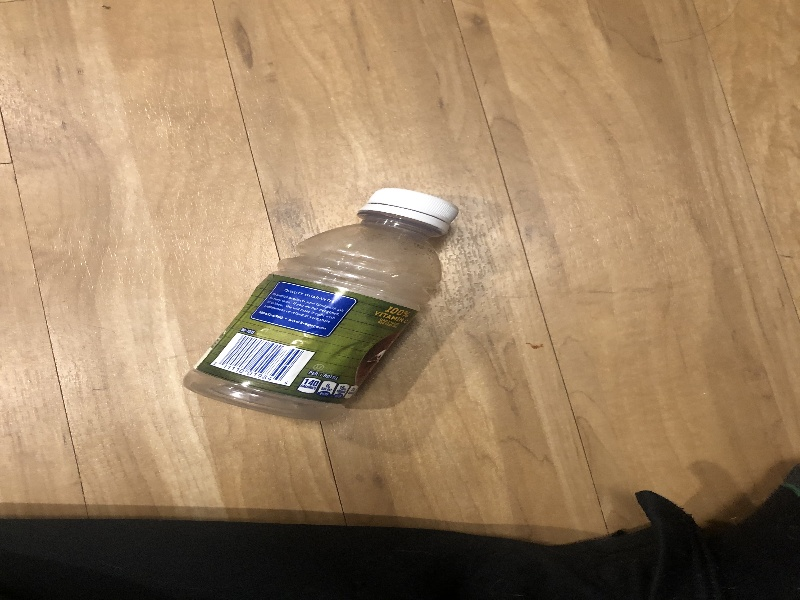plastic: (175, 179, 463, 431)
